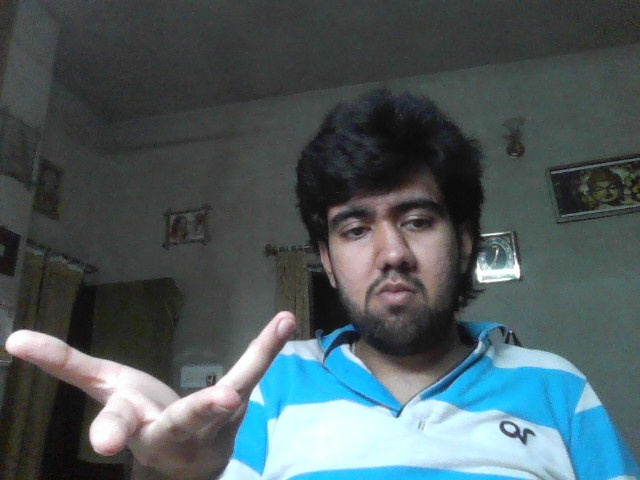What: (5, 309, 297, 474)
